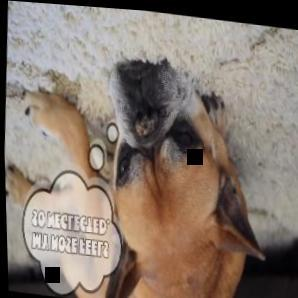keratosis: (131, 102, 159, 139)
